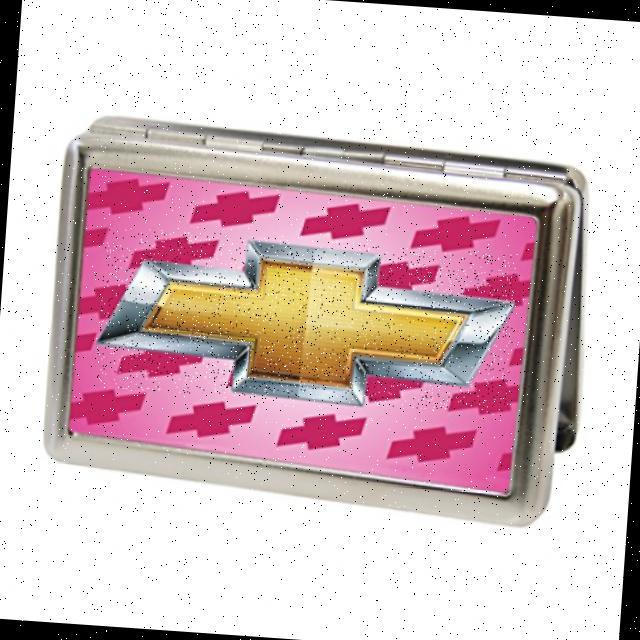Chevrolet: (95, 225, 520, 416)
